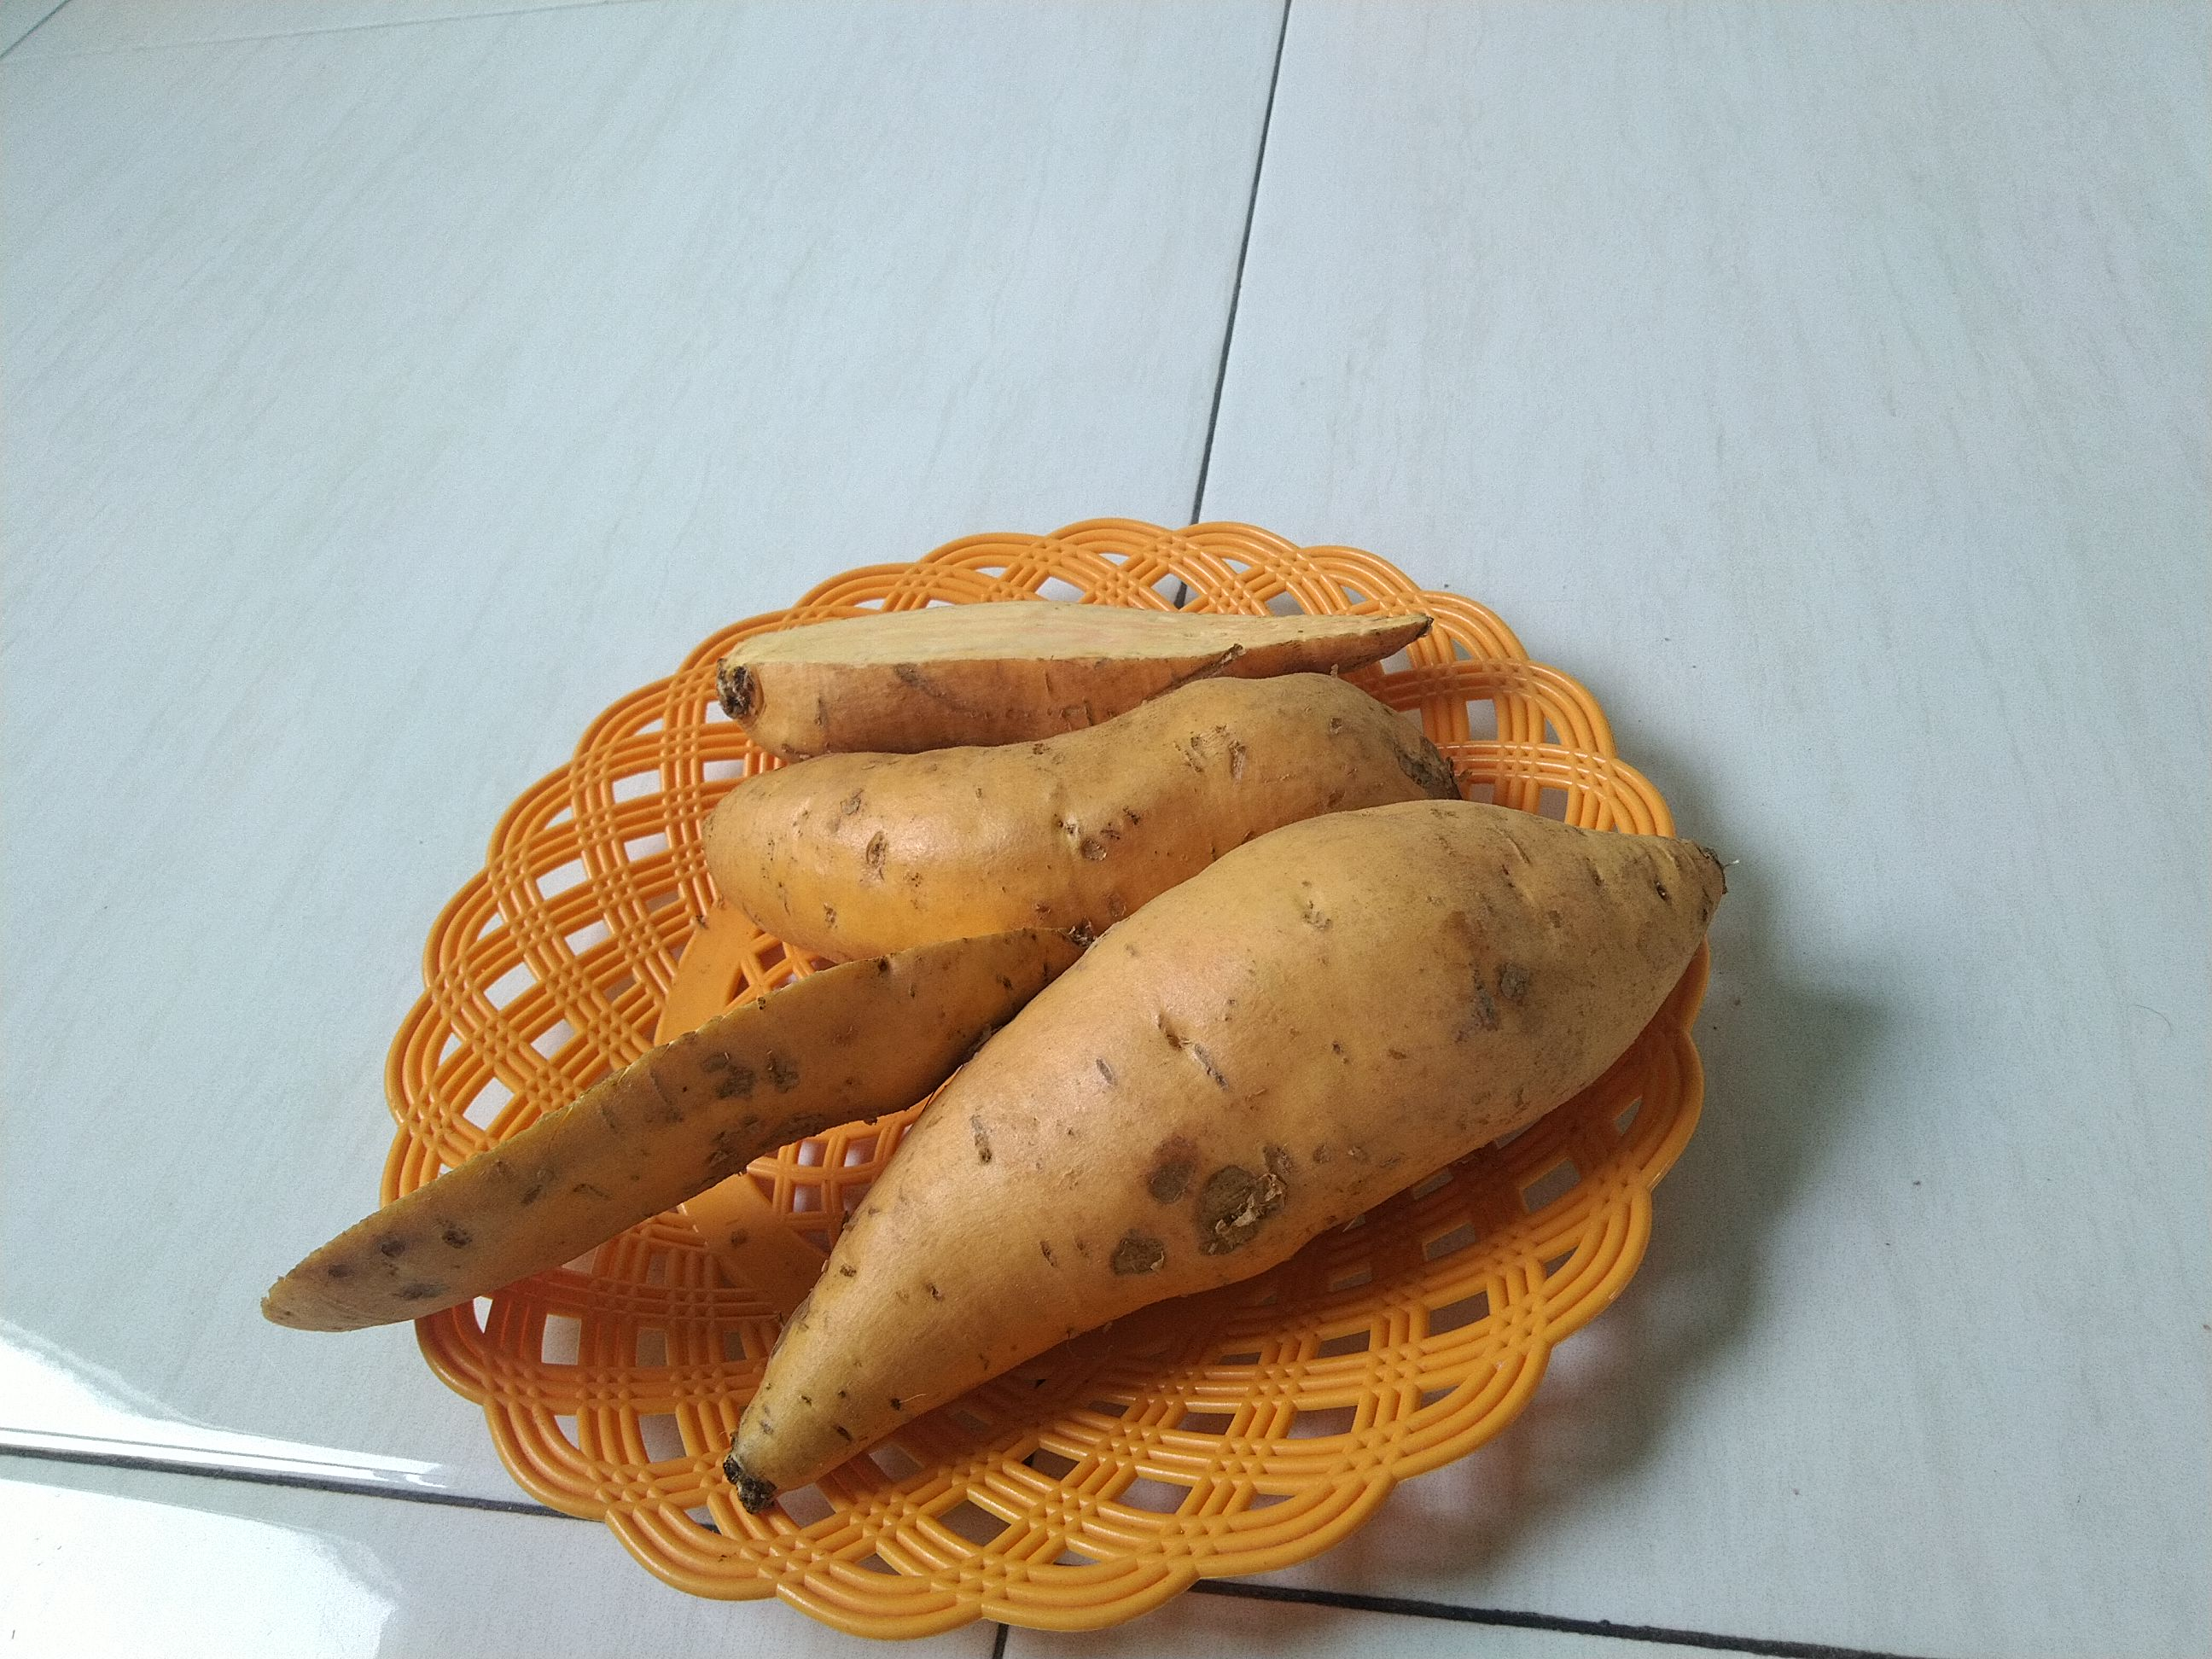ubi cilembu: (719, 819, 1761, 1520), (249, 911, 1132, 1359), (705, 697, 1510, 953), (714, 580, 1439, 744)
